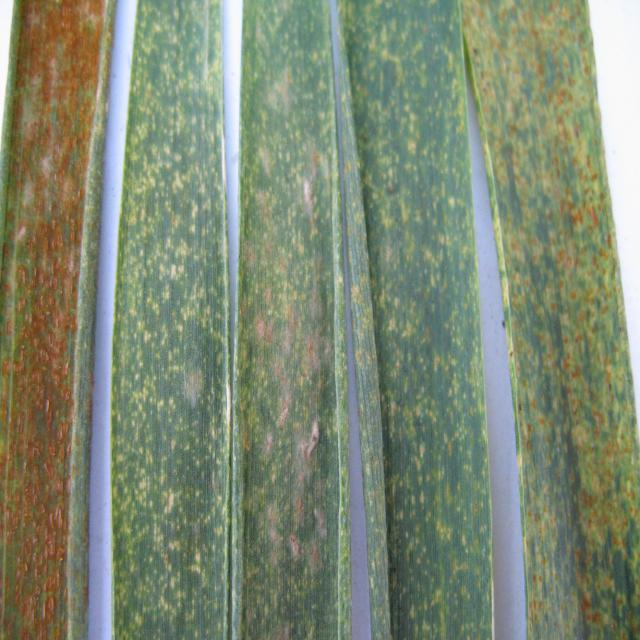wheat-powdery-mildew: (245, 49, 330, 577), (176, 365, 212, 412)
